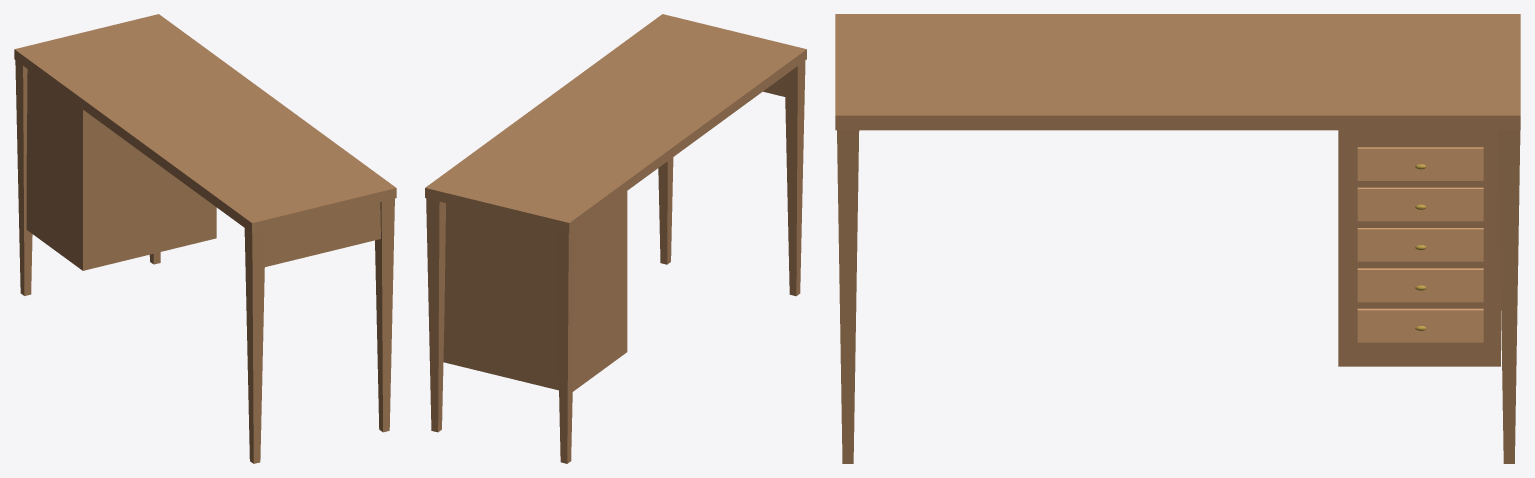
File: Desk.fbx
The picture shows the model from 3 angles, left to right: view 1: azimuth 30°, elevation 25°; view 2: azimuth 150°, elevation 25°; view 3: azimuth 270°, elevation 25°; orthographic projection. The views are drawn at different scales.
Visible parts, largest first — view 1: Cube.011; view 2: Cube.011; view 3: Cube.011, Cube.002.
Boxes of the visible parts, bbox=[...] form: Cube.011: bbox=[14, 14, 396, 463]; Cube.011: bbox=[425, 14, 806, 463]; Cube.011: bbox=[835, 14, 1520, 463]; Cube.002: bbox=[1357, 147, 1483, 342].
Bounding box in the file's own units: 216 × 348 × 615.
